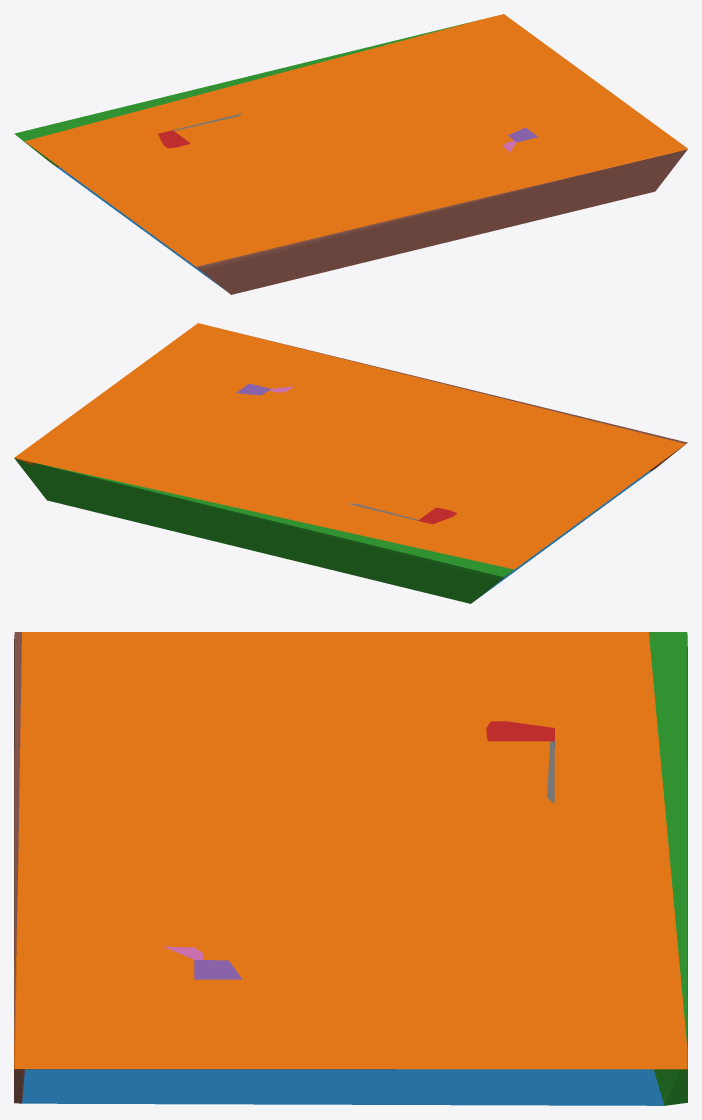
Rendered from Wall_03_cvx.obj.
3 views of the same model, one above another, from view 1: azimuth 30°, elevation 25°; view 2: azimuth 150°, elevation 25°; view 3: azimuth 270°, elevation 25° (orthographic). The views are drawn at different scales.
Parts seen in each view (by area): view 1: scenes/apartment_0000_coacd/output/Unknown/Wall_03/cvx/Wall_0300; view 2: scenes/apartment_0000_coacd/output/Unknown/Wall_03/cvx/Wall_0300; view 3: scenes/apartment_0000_coacd/output/Unknown/Wall_03/cvx/Wall_0300.
Part boxes in pixels (x1,y1,x2,y2): scenes/apartment_0000_coacd/output/Unknown/Wall_03/cvx/Wall_0300: [14, 14, 687, 294]; scenes/apartment_0000_coacd/output/Unknown/Wall_03/cvx/Wall_0300: [14, 323, 687, 603]; scenes/apartment_0000_coacd/output/Unknown/Wall_03/cvx/Wall_0300: [14, 632, 687, 1105].
Bounding box in the file's own units: 5.9 × 0.4378 × 3.84.
